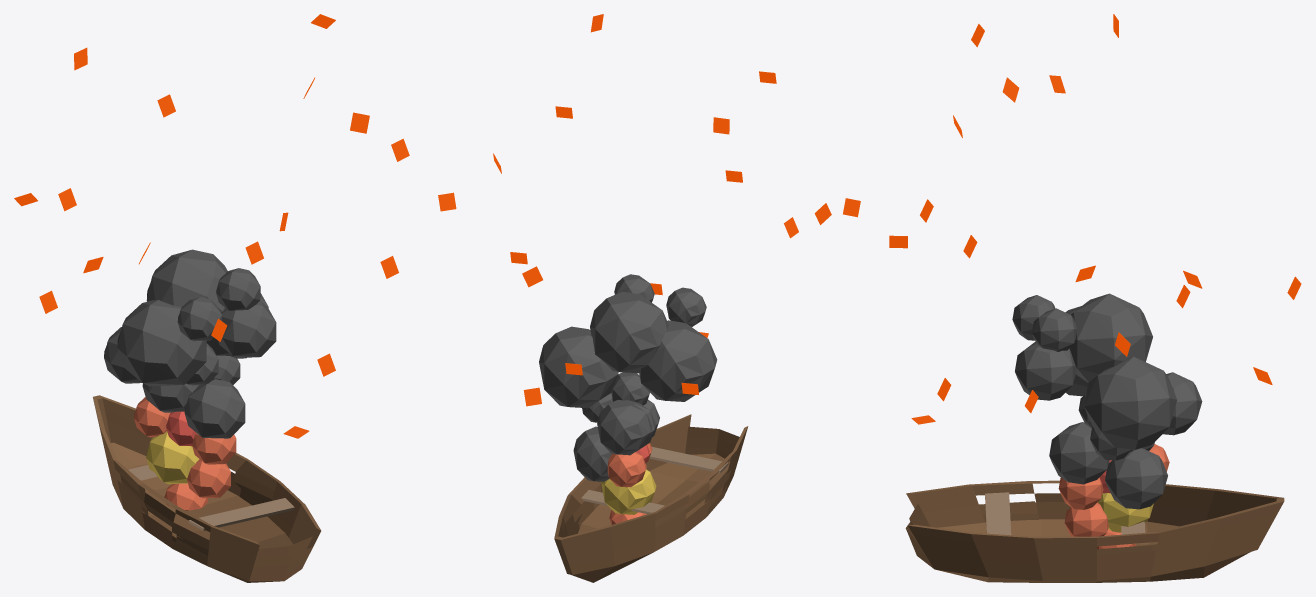
File: 11 Fire_Boat.FBX
The picture shows the model from 3 angles, left to right: view 1: azimuth 30°, elevation 25°; view 2: azimuth 150°, elevation 25°; view 3: azimuth 270°, elevation 25°; orthographic projection. The views are drawn at different scales.
Parts seen in each view (by area): view 1: Fire_3, Cube003; view 2: Fire_3, Cube003; view 3: Fire_3, Cube003.
Boxes of the visible parts, bbox=[...] form: Fire_3: bbox=[14, 14, 409, 510]; Cube003: bbox=[93, 395, 321, 582]; Fire_3: bbox=[438, 14, 860, 524]; Cube003: bbox=[554, 414, 748, 582]; Fire_3: bbox=[889, 14, 1301, 549]; Cube003: bbox=[905, 480, 1284, 582].
Bounding box in the file's own units: 1206 × 1691 × 1155.
